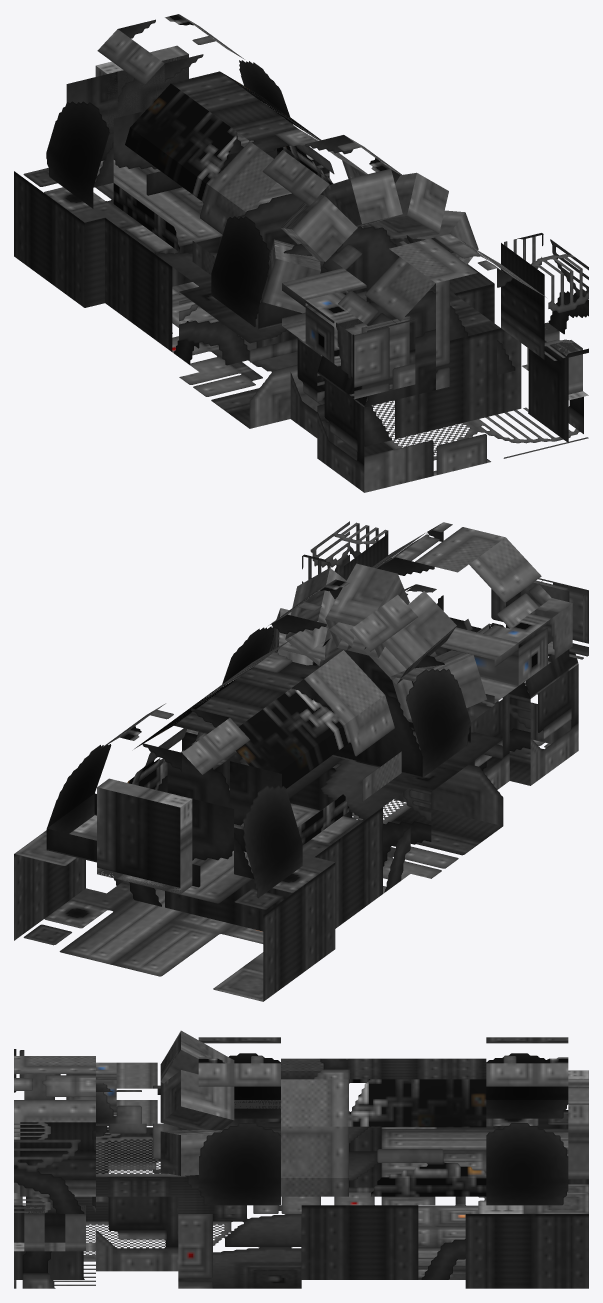
The model's file is gas_turbine.obj.
3 renders of one model, top to bottom at view 1: azimuth 30°, elevation 25°; view 2: azimuth 150°, elevation 25°; view 3: azimuth 270°, elevation 25°, orthographic. The views are drawn at different scales.
Parts seen in each view (by area): view 1: Cube.030_Cube.028; view 2: Cube.030_Cube.028; view 3: Cube.030_Cube.028.
Boxes of the visible parts, <box> form: Cube.030_Cube.028: <box>14,14,588,492</box>; Cube.030_Cube.028: <box>14,521,588,1001</box>; Cube.030_Cube.028: <box>14,1030,588,1288</box>.
Size of the model in its own units: 3 by 2.62 by 7.
